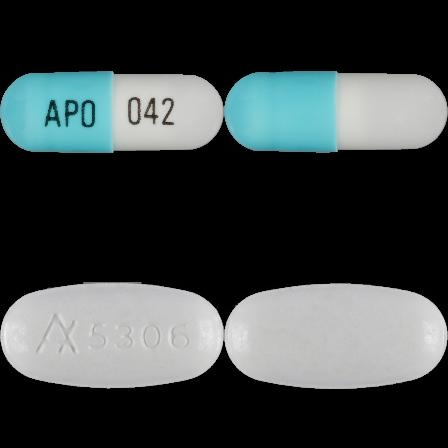0904-5789: (0, 0, 224, 224)
